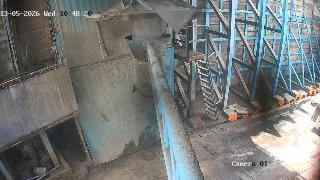cement_mixer_truck: (310, 86, 320, 124)
swing_chute: (126, 36, 171, 96)
